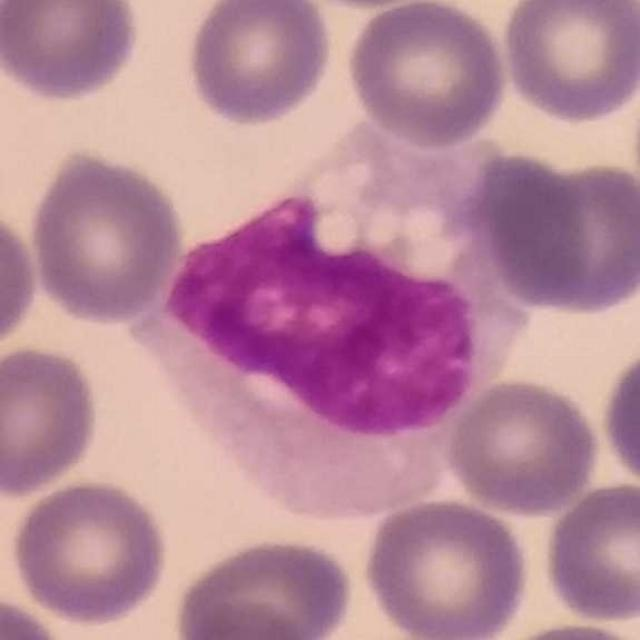mono: (134, 110, 538, 521)
